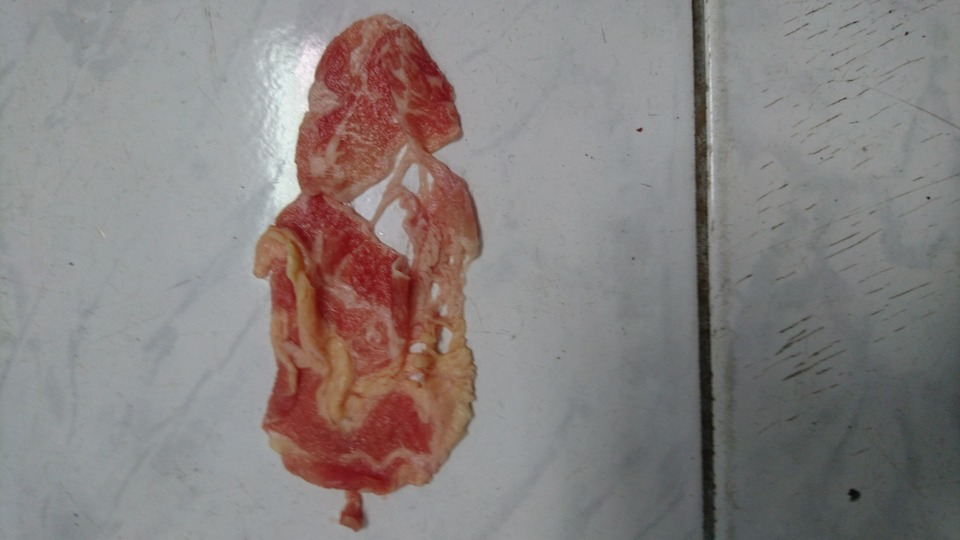restructured meat: (256, 24, 499, 521)
